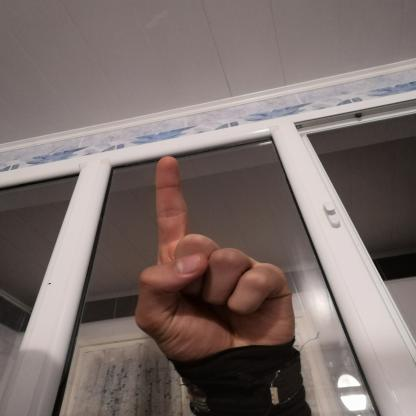BAA: (119, 149, 306, 372)
